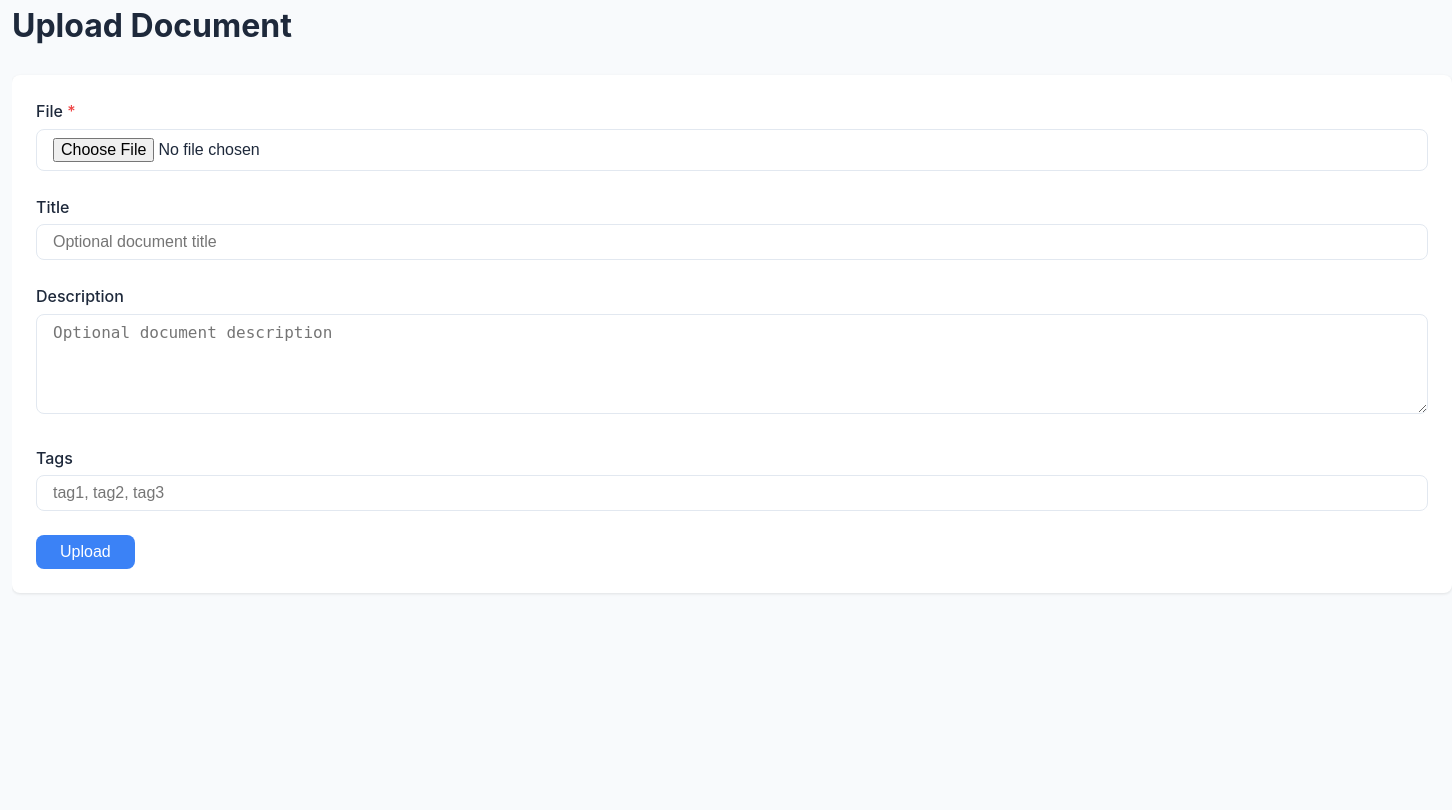
Scenario: DocumentUpload › should validate required file field
The image size is (1452, 810).
Click the button "Upload".
click(85, 552)  # box [36,535,135,569]
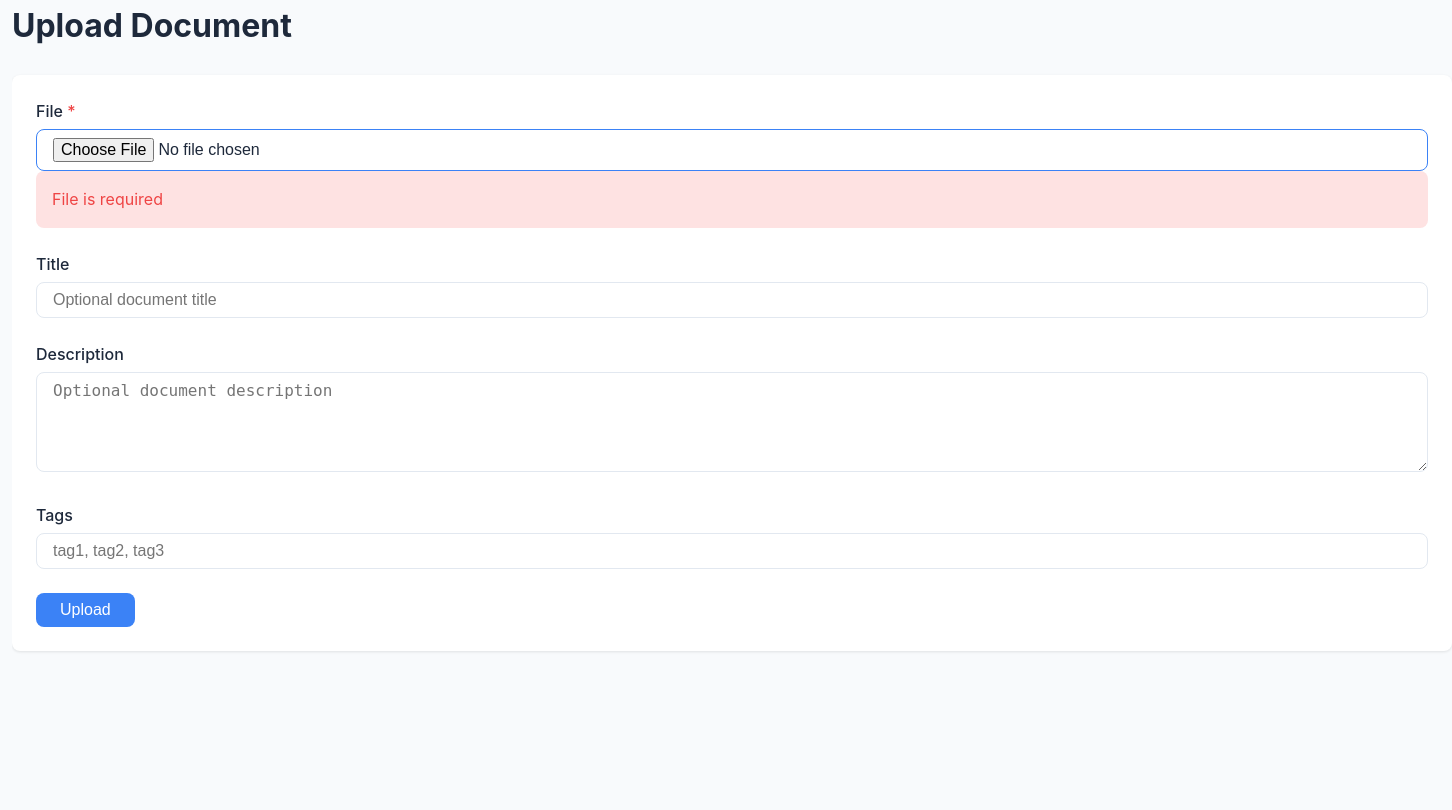
Result: the text "File is required" is shown at [36,171,1428,228]
